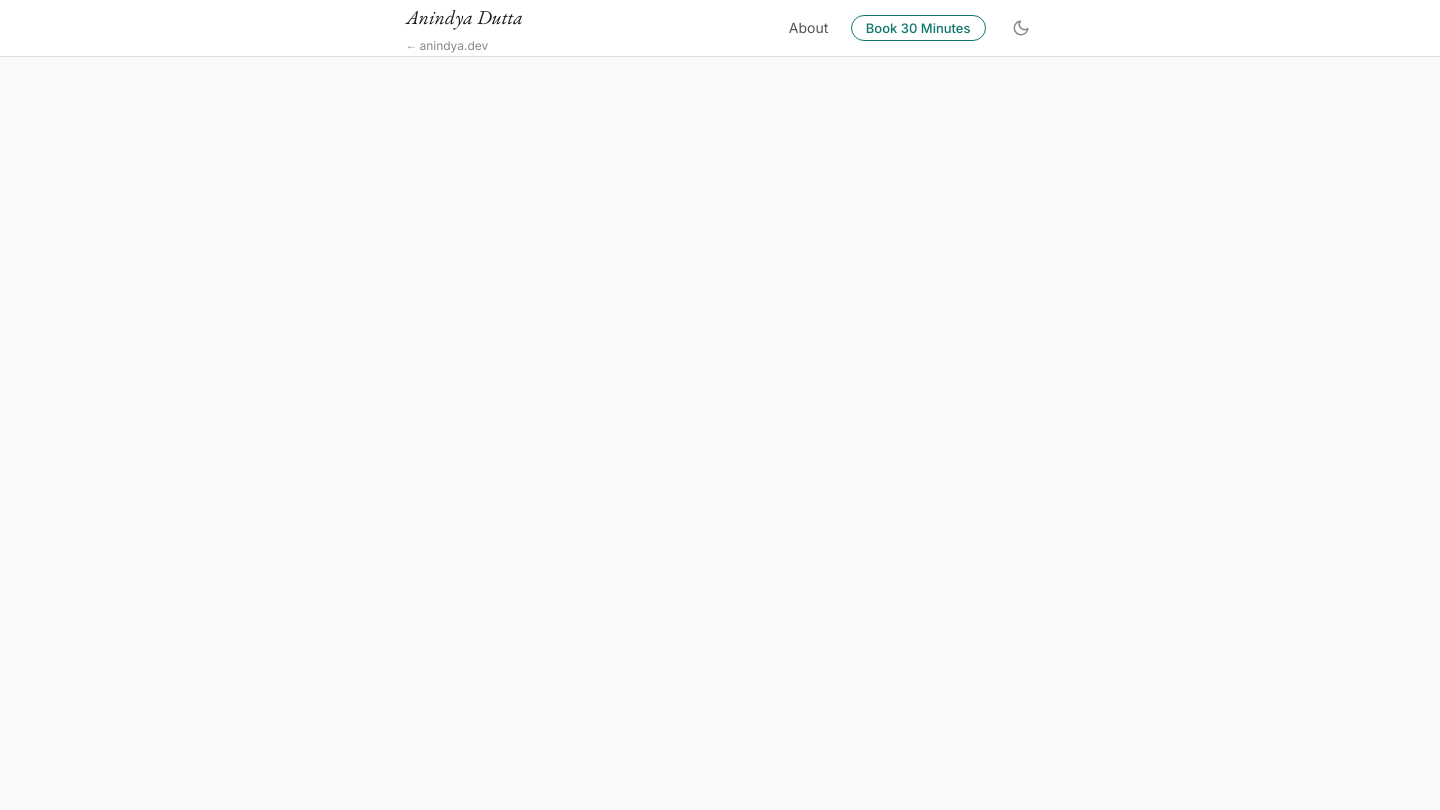
Test: Navbar — BookingModal integration › BookingModal can be closed via the close button
This screenshot has width=1440, height=810.
Click the button "Book 30 Minutes" at (918, 28), box [851,15,986,41]
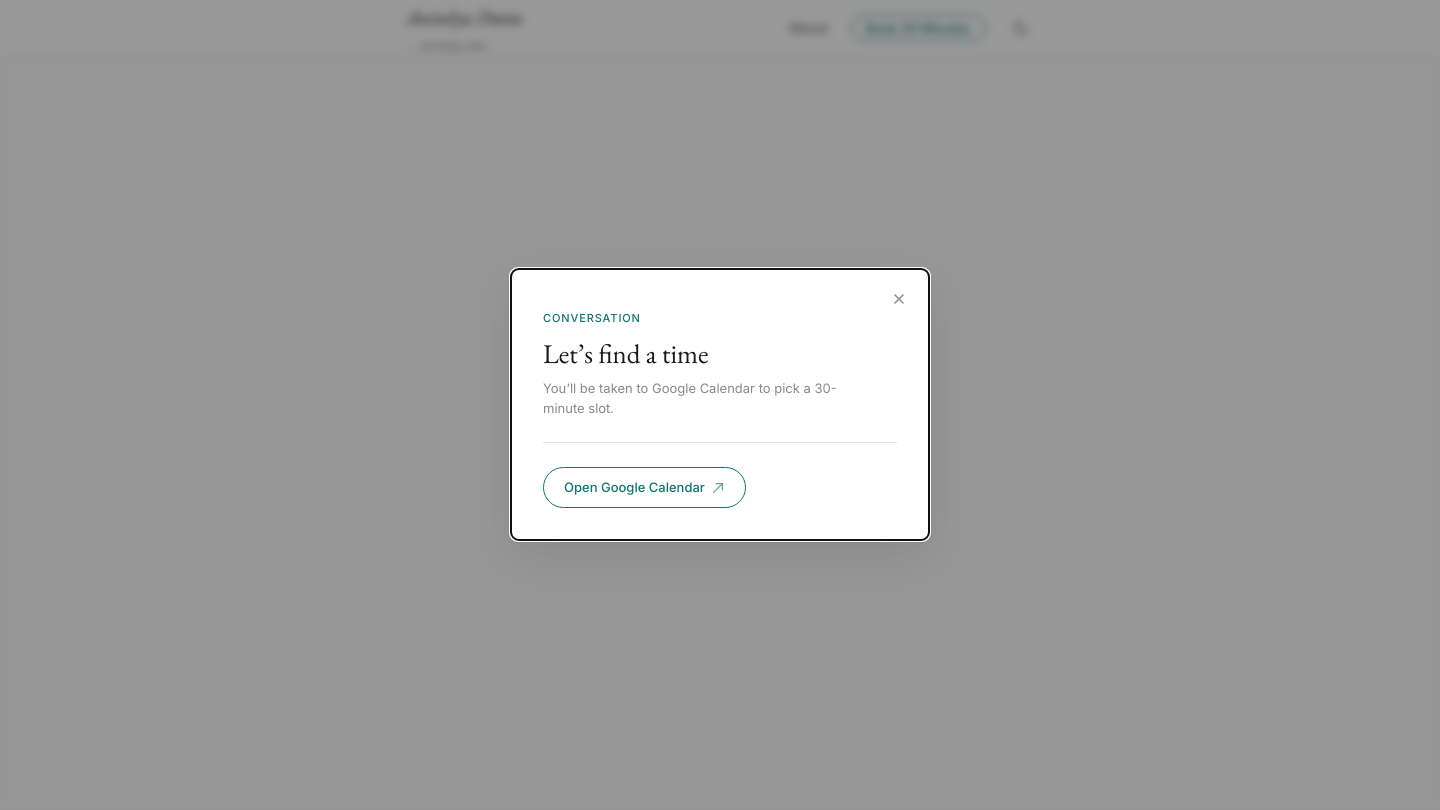
Check: the dialog is shown, box [510,268,930,542]
Click the button named "Close dialog" at (899, 300), box [877,278,921,322]
Wait 200 ms
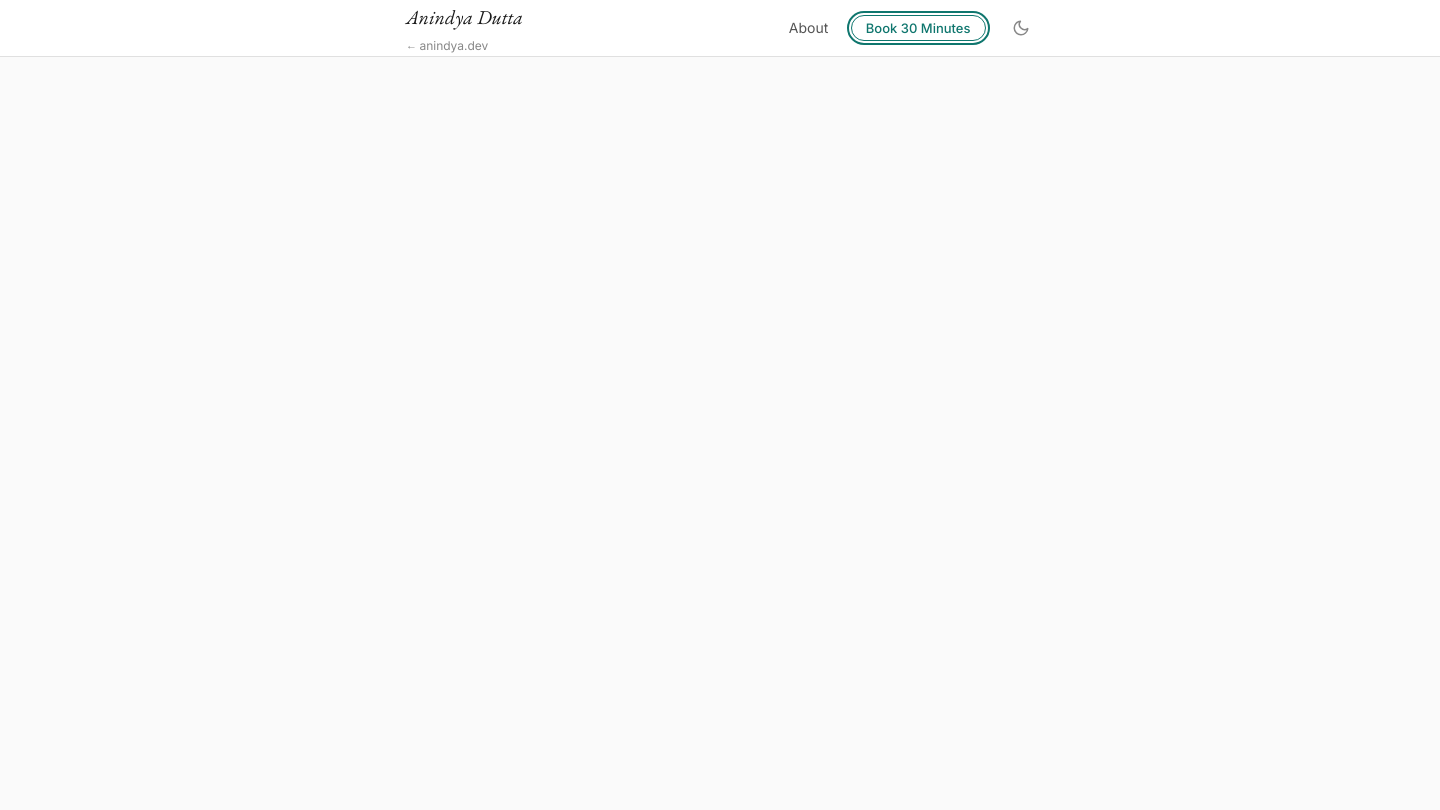
Check: the dialog is gone
